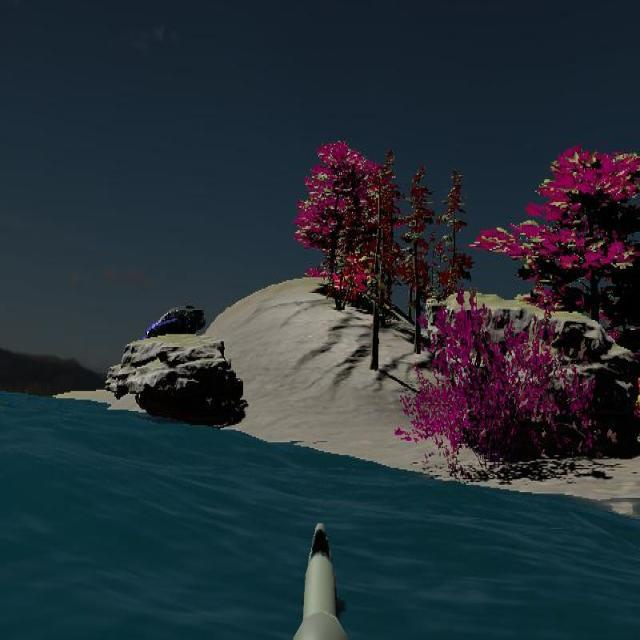car: (147, 305, 206, 341)
